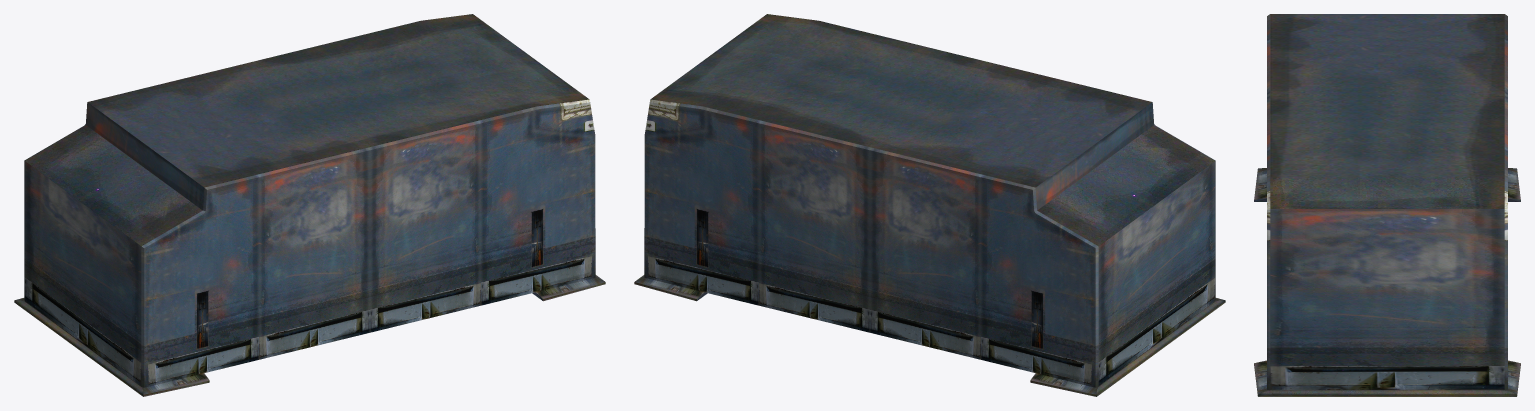
Rendered from TrashLowPoly01.FBX.
The picture shows the model from 3 angles, left to right: view 1: azimuth 30°, elevation 25°; view 2: azimuth 150°, elevation 25°; view 3: azimuth 270°, elevation 25°; orthographic projection.
Parts seen in each view (by area): view 1: TrashLowPoly01; view 2: TrashLowPoly01; view 3: TrashLowPoly01.
Part boxes in pixels (x1,y1,x2,y2): TrashLowPoly01: (14, 14, 605, 396); TrashLowPoly01: (634, 14, 1225, 396); TrashLowPoly01: (1254, 14, 1520, 396).
Bounding box in the file's own units: 197 × 76.76 × 98.03.
